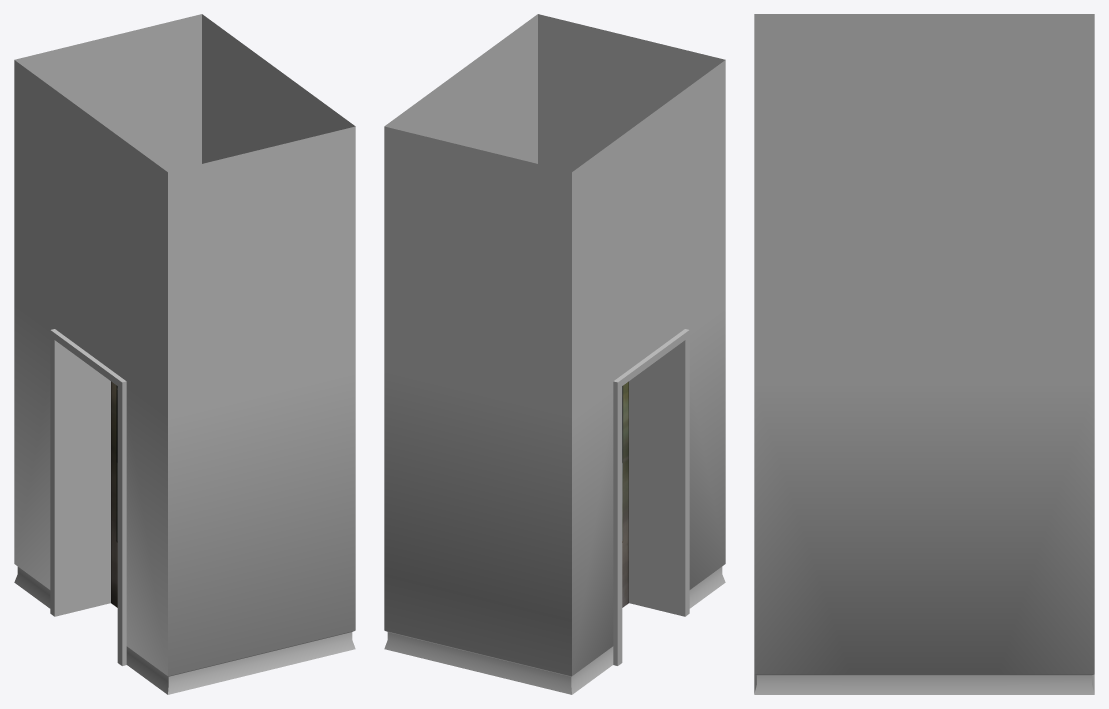
Rendered from elevator.FBX.
3 renders of one model, left to right at view 1: azimuth 30°, elevation 25°; view 2: azimuth 150°, elevation 25°; view 3: azimuth 270°, elevation 25°, orthographic. The views are drawn at different scales.
Visible parts, largest first — view 1: Object423, Box099, Object424, Object425; view 2: Object423, Box099, Object424, Object425; view 3: Box099, Object423.
Part boxes in pixels (x1,y1,x2,y2): Object423: (14,14,355,694); Box099: (14,245,355,676); Object424: (50,329,126,665); Object425: (111,381,117,607); Object423: (384,14,725,694); Box099: (384,245,725,676); Object424: (613,329,689,665); Object425: (622,381,628,607); Box099: (754,321,1094,675); Object423: (754,14,1094,694).
Bounding box in the file's own units: 1515 × 3927 × 2092.
